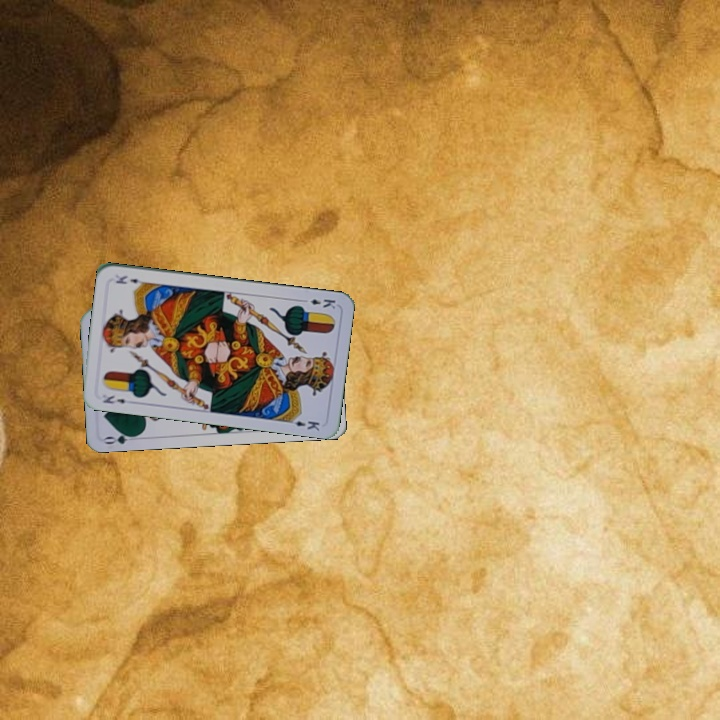EK: (298, 295, 338, 312), (99, 391, 128, 406)
GO: (101, 427, 142, 447)
